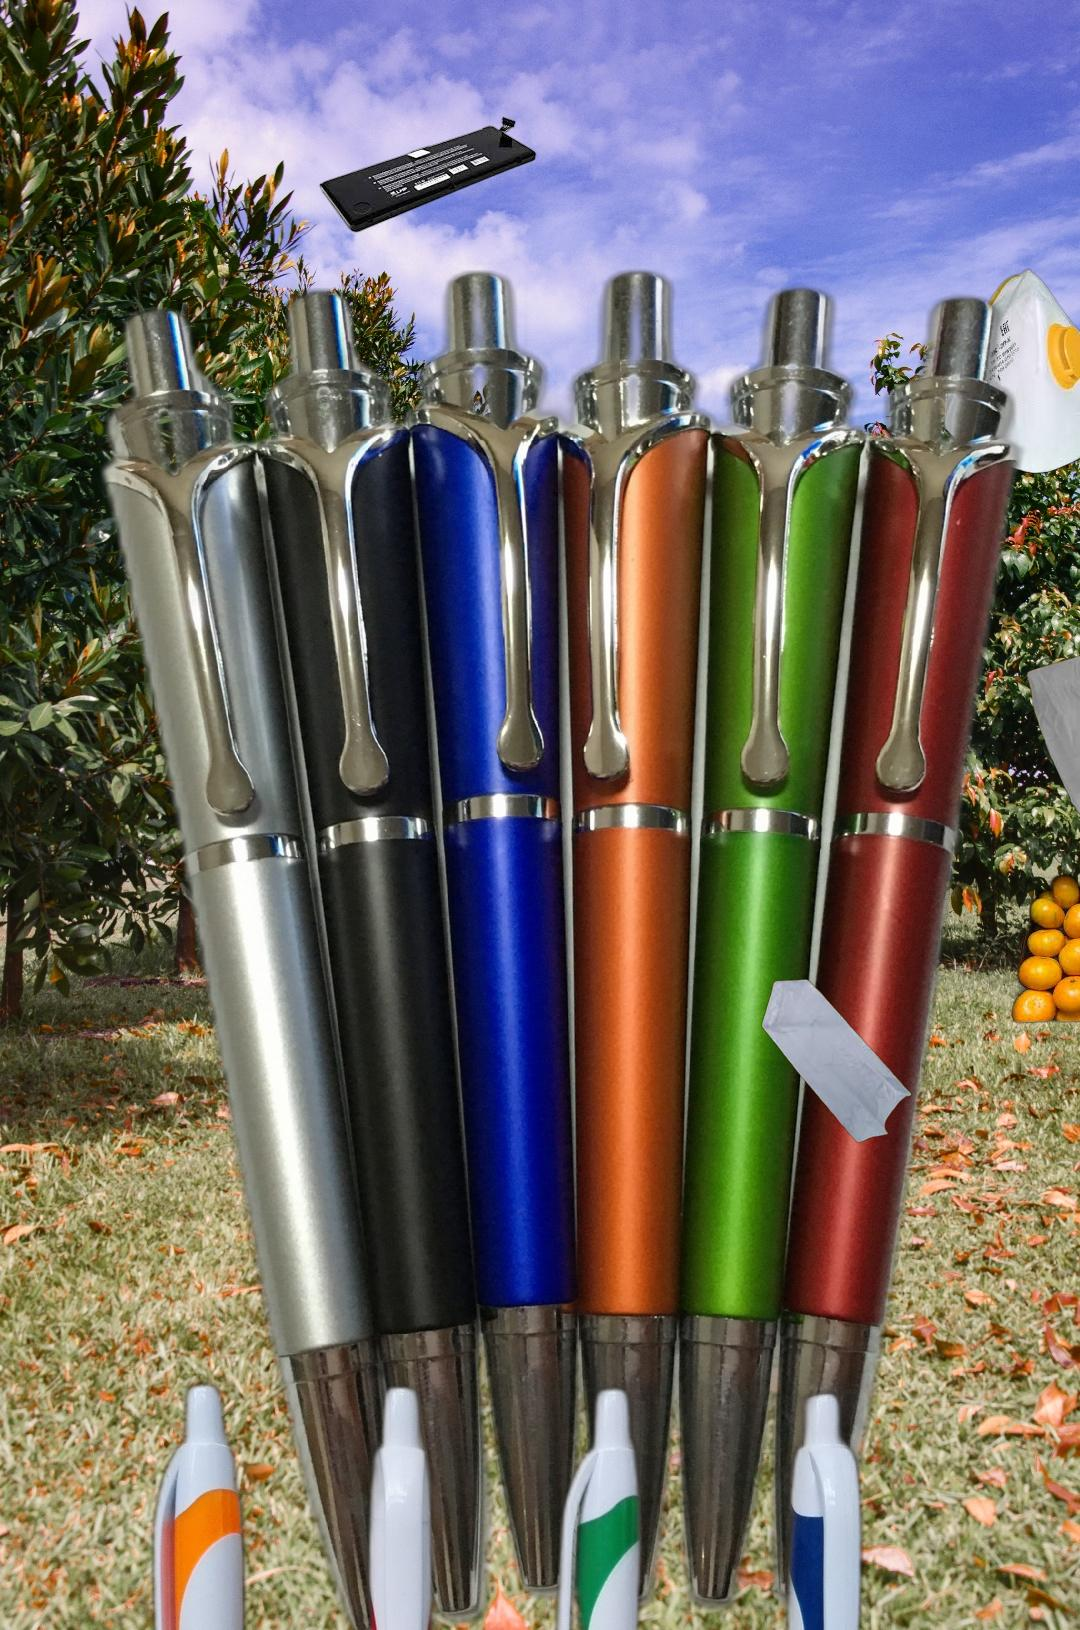battery: (317, 114, 538, 235)
biological: (1009, 872, 1080, 1034)
metal-cans: (532, 416, 677, 575)
penholder: (83, 258, 1038, 1630), (143, 1290, 1019, 1630)
plastic-bag: (761, 976, 912, 1146), (1025, 640, 1080, 838)
trash: (940, 266, 1080, 476)
